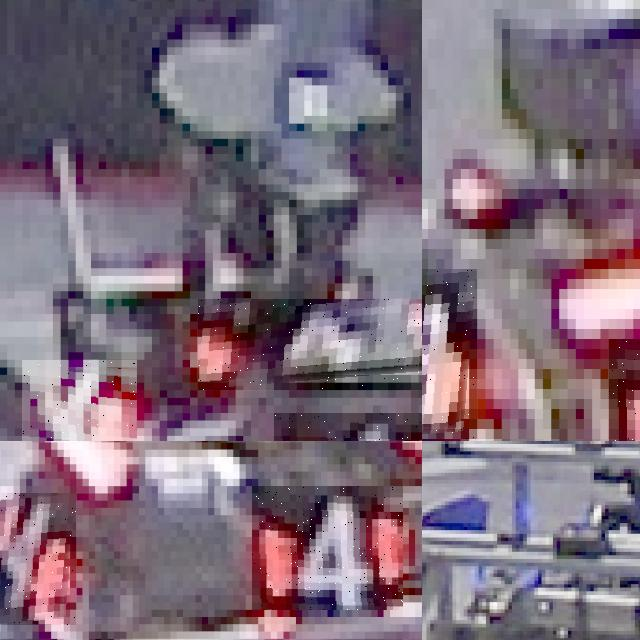R3: (422, 269, 477, 439)
R4: (197, 298, 422, 390), (252, 486, 403, 610), (0, 493, 76, 624), (22, 359, 136, 441)
